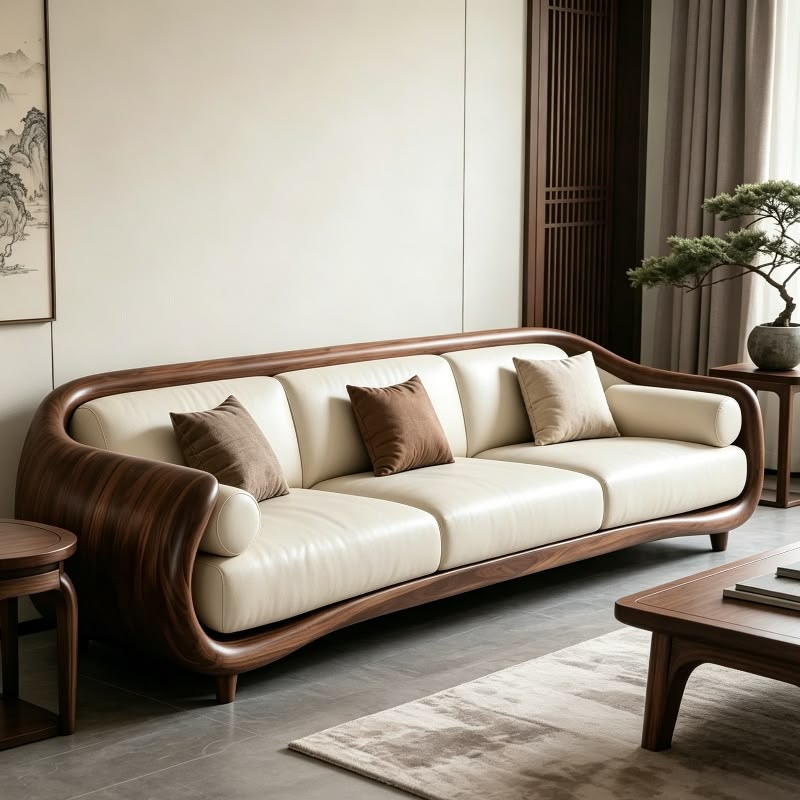3seatersofa: (16, 328, 762, 702)
backrest: (53, 324, 591, 485)
base: (218, 499, 746, 669)
leftarmrest: (575, 336, 765, 502)
leg: (216, 675, 237, 701), (710, 533, 728, 551)
pillow: (171, 396, 287, 500), (348, 376, 452, 475), (514, 352, 619, 445), (607, 385, 740, 446), (200, 485, 260, 556)
rightarmrest: (17, 433, 216, 669)
seat: (193, 437, 745, 631)
